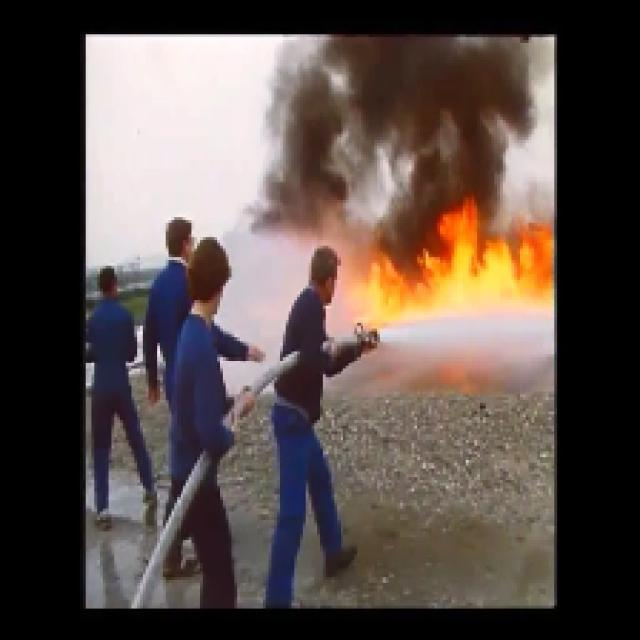Fire: (365, 237, 551, 305)
Smoke: (305, 30, 544, 204)
